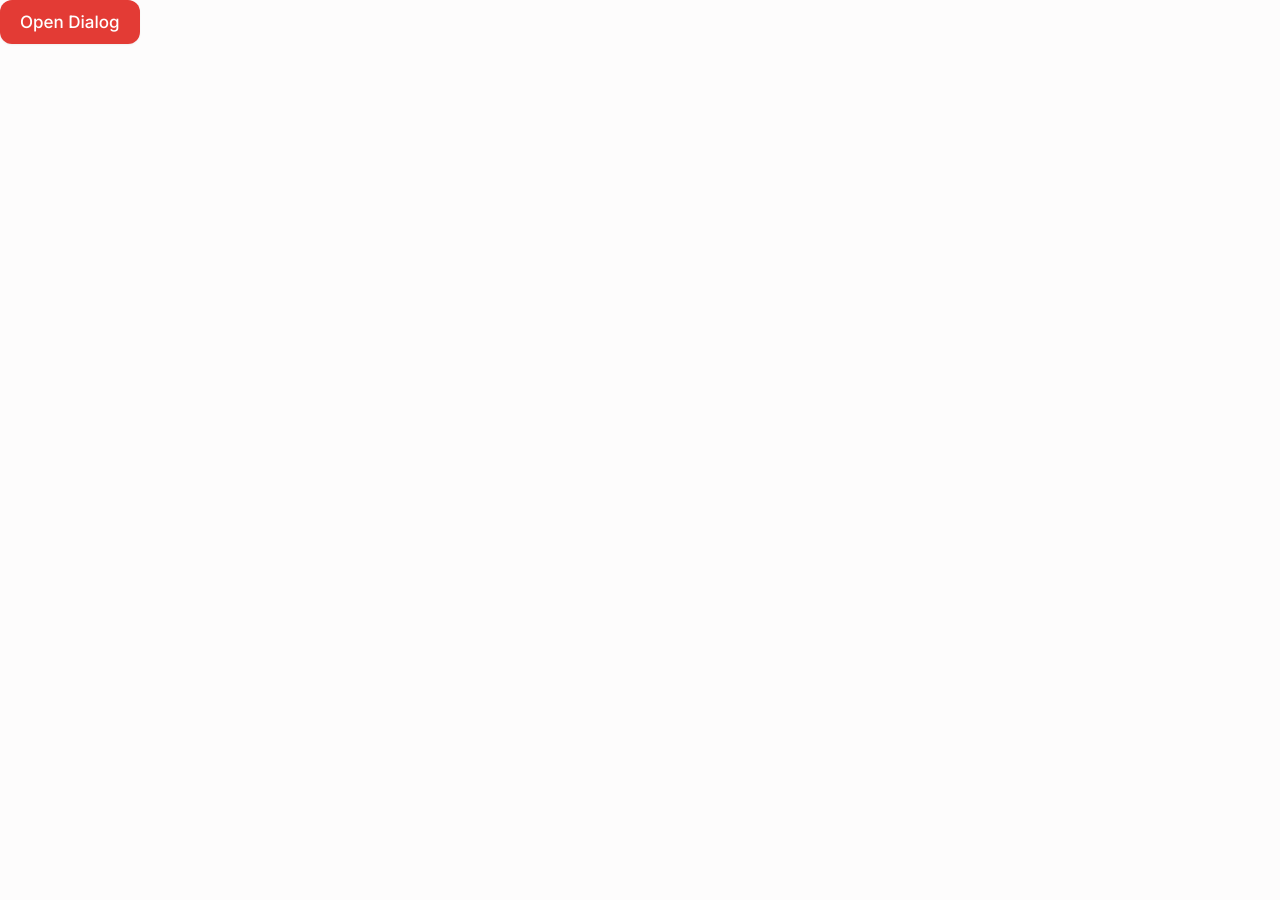
Scenario: Dialog Components › DialogContent › closes when close button is clicked
The image size is (1280, 900).
Click the button "Open Dialog": click(70, 22) x1=0 y1=0 x2=140 y2=44
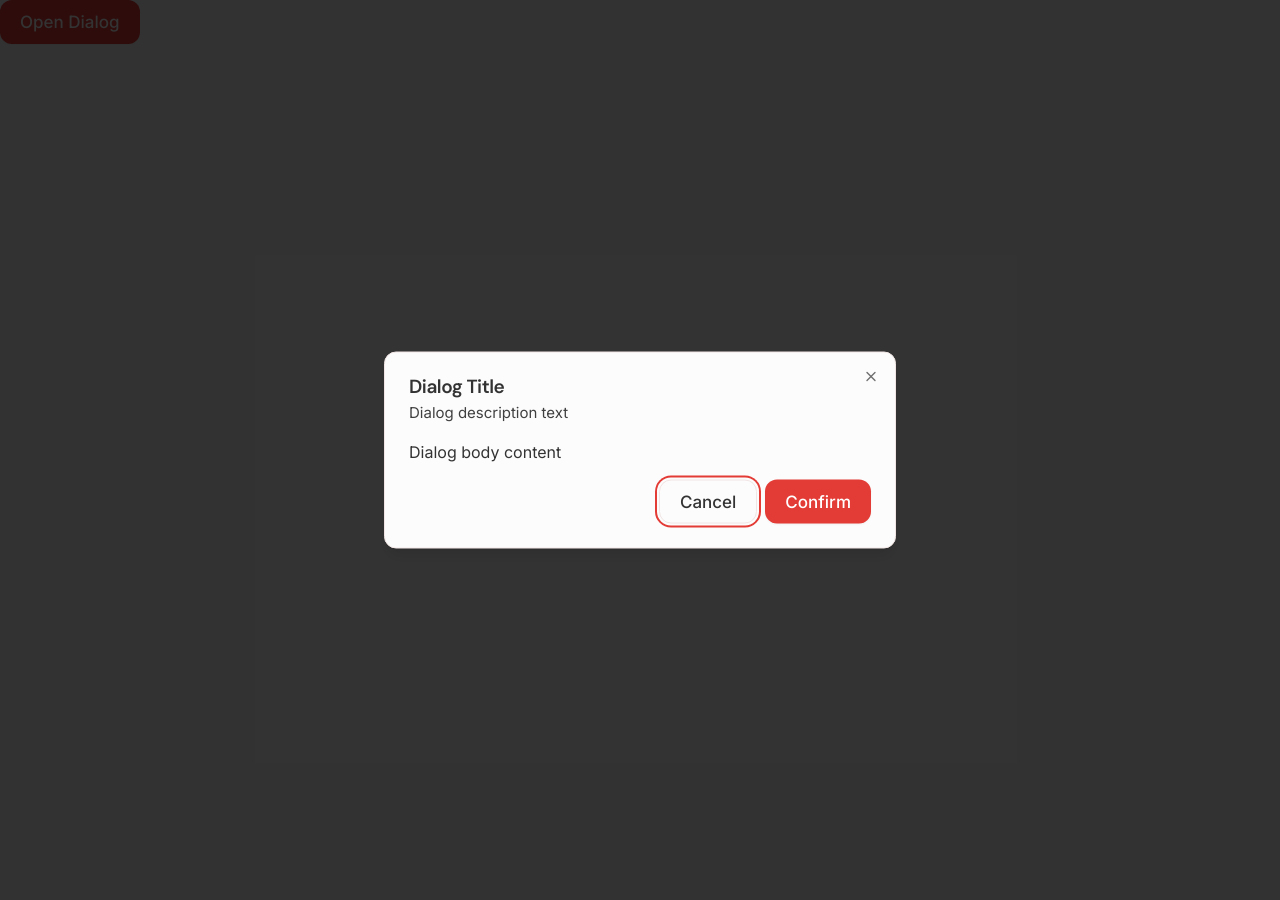
Expected: the dialog is shown, x1=384 y1=352 x2=896 y2=548
Click the button named "Close": click(871, 376) x1=863 y1=368 x2=879 y2=384
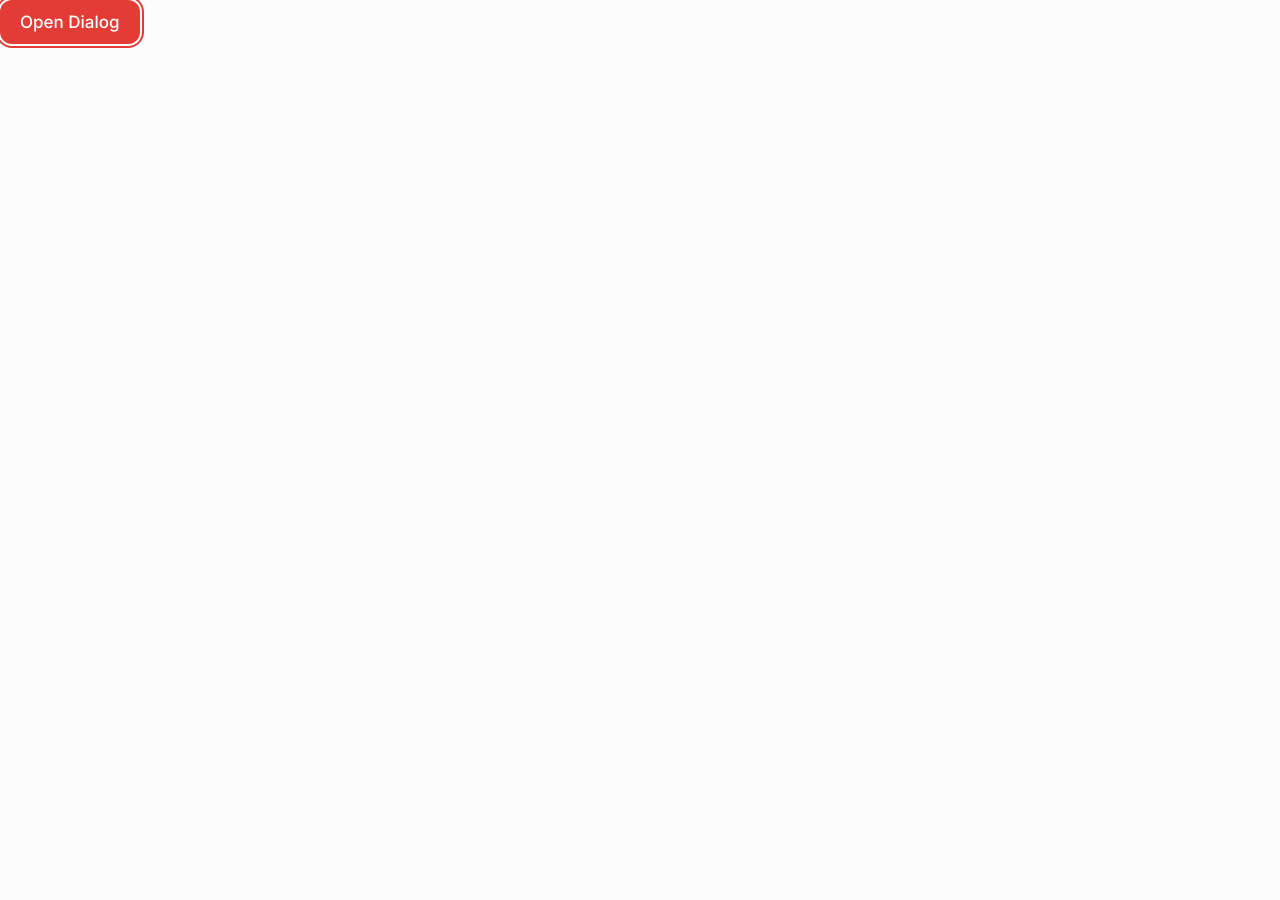
Expected: the dialog is gone
